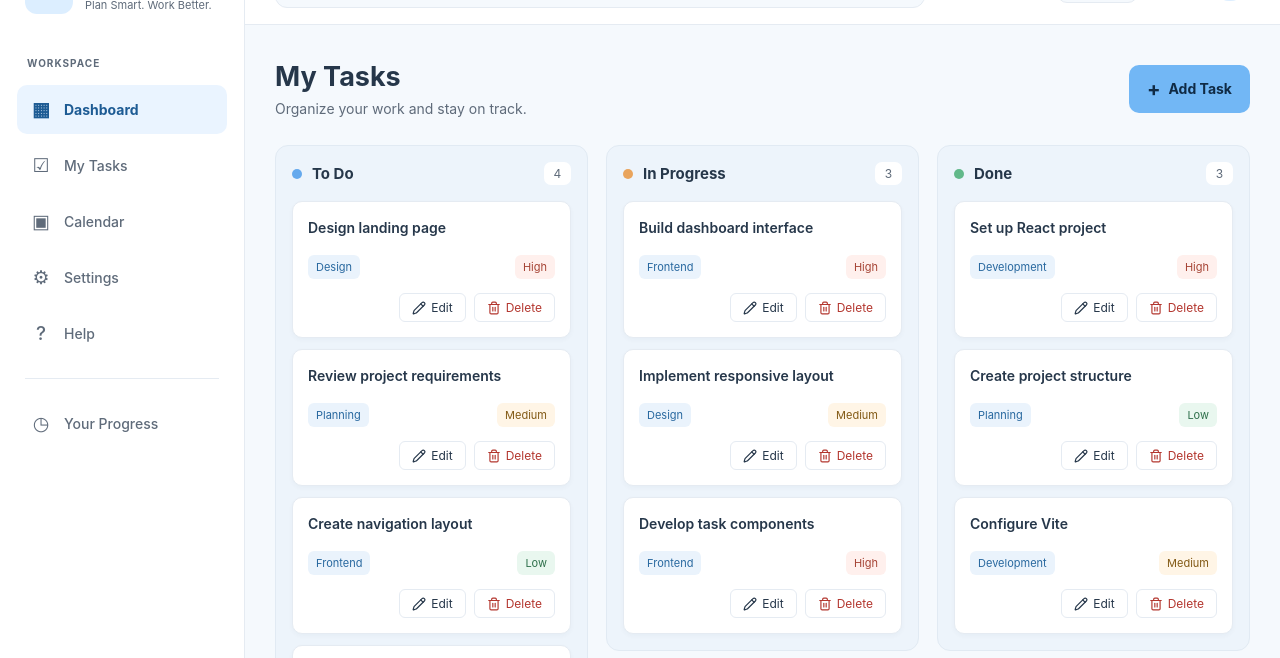
Scenario: dashboard task statistics › keeps a failed create out of the board and retries without duplicate submits
This screenshot has width=1280, height=658.
Click the button "+ Add Task" at (1189, 88), box 1129,64 -> 1250,112
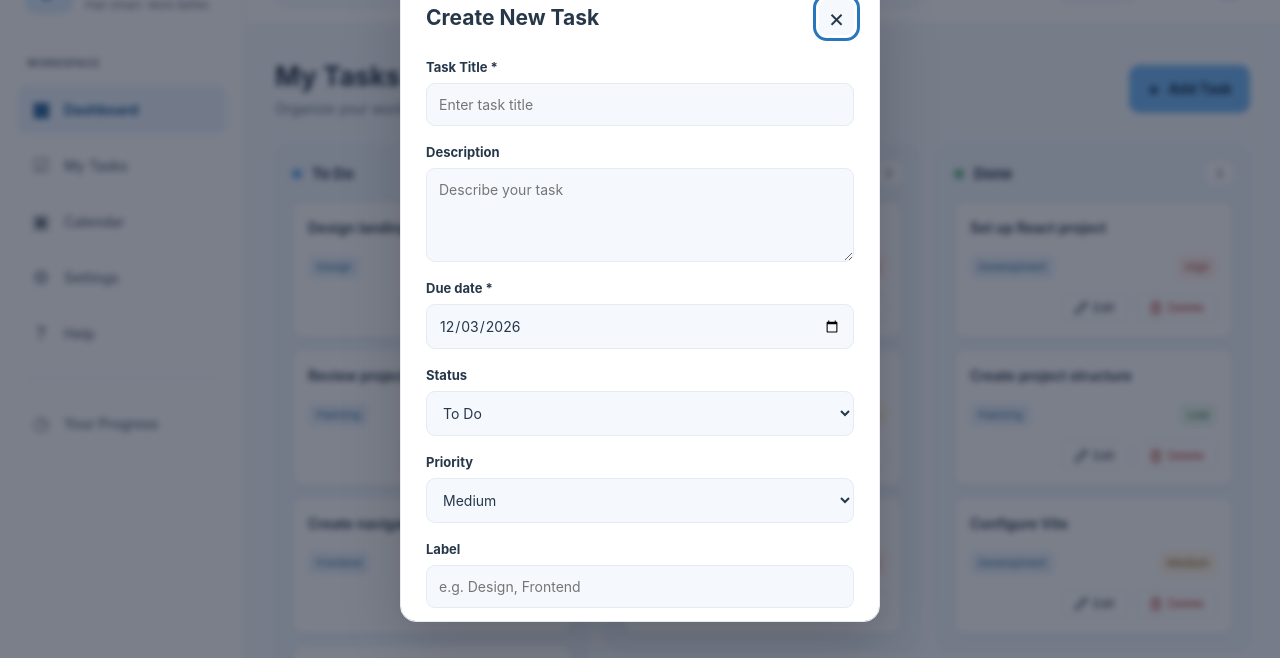
Type "Retry this task" into the field labelled "Task Title *" at (640, 104), box 426,83 -> 854,126
(page scrolled)
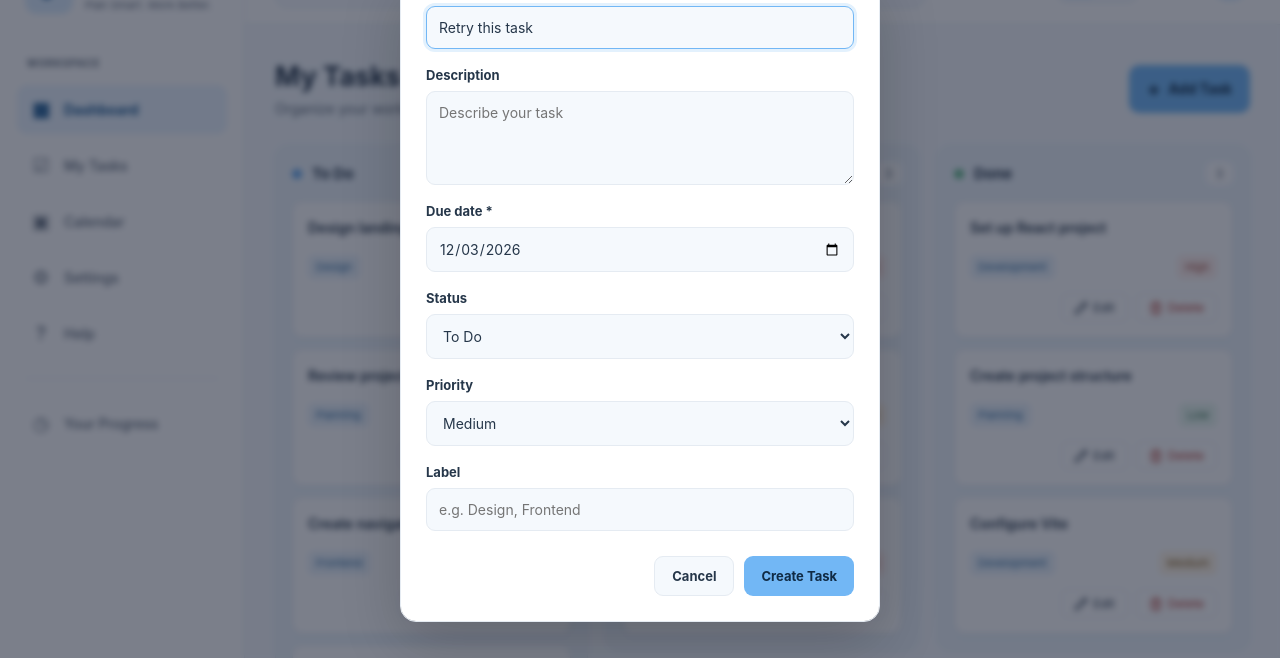
Click the button "Create Task" at (799, 576), box 744,556 -> 854,596
(page scrolled)
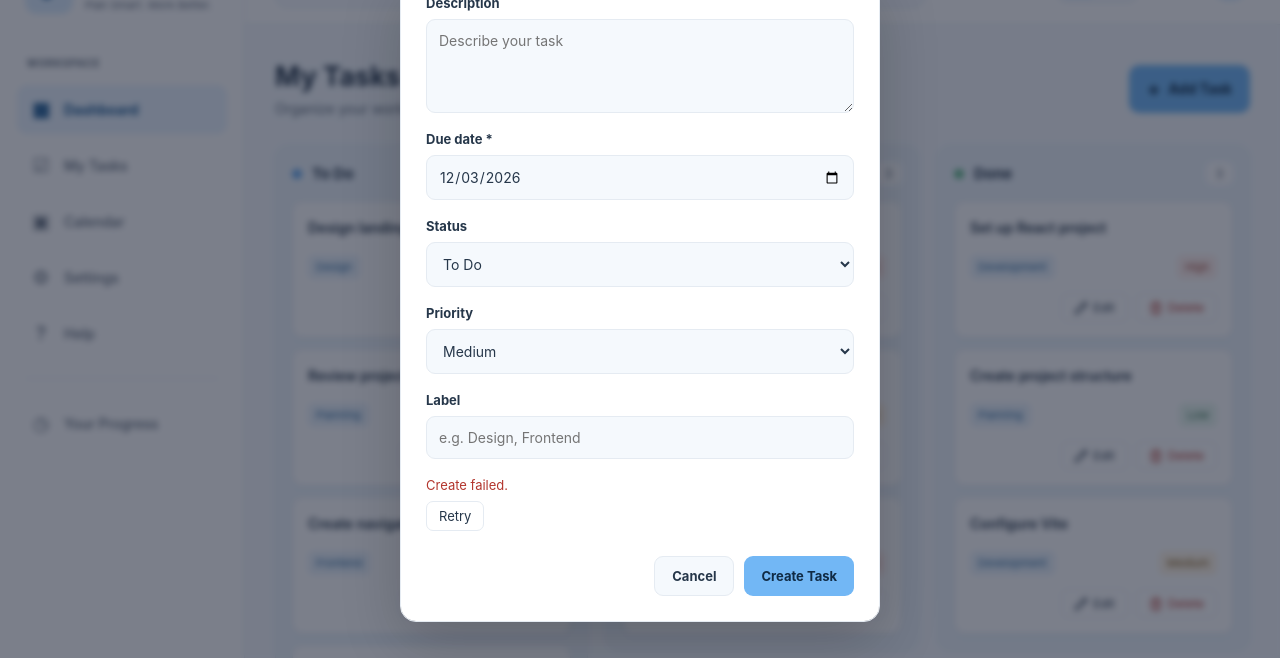
Now the message shows "Create failed.", box 426,477 -> 508,493
Click the button "Retry" at (455, 516), box 426,501 -> 484,531
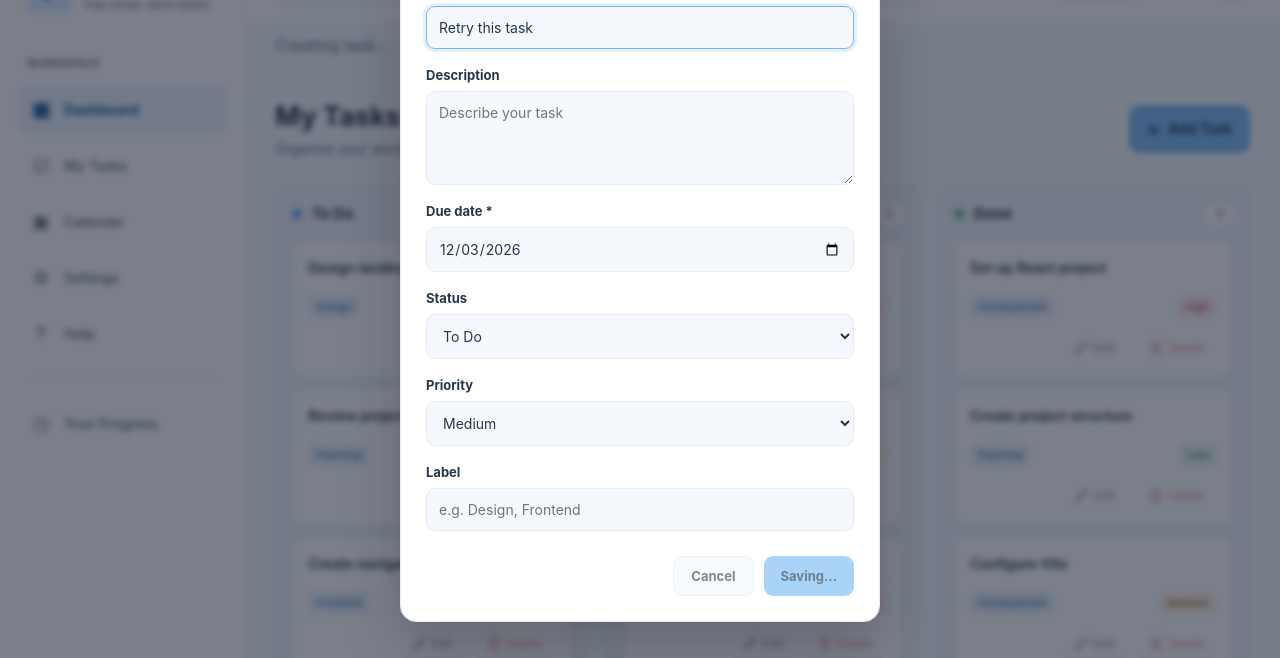
Now the button "Saving..." is disabled
Click the button "Saving..." at (809, 576), box 764,556 -> 854,596
(page scrolled)
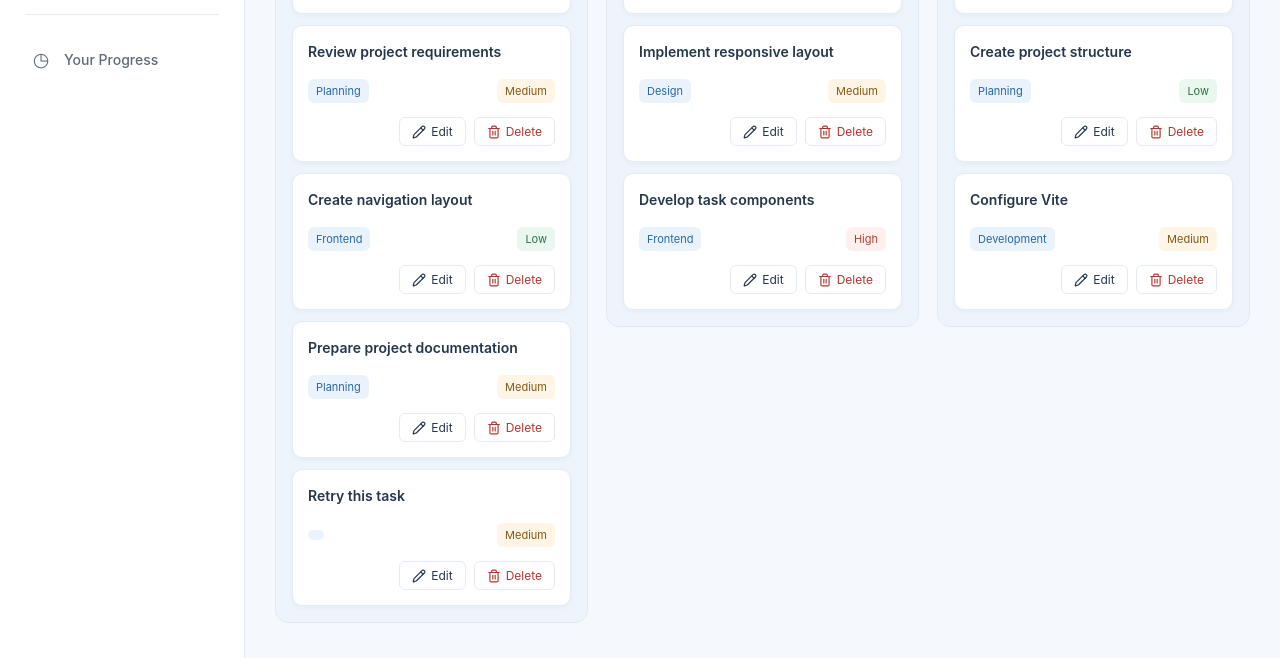
Now the element named "Retry this task, To Do. Press Enter or Space to move." is shown, box 292,469 -> 571,606
